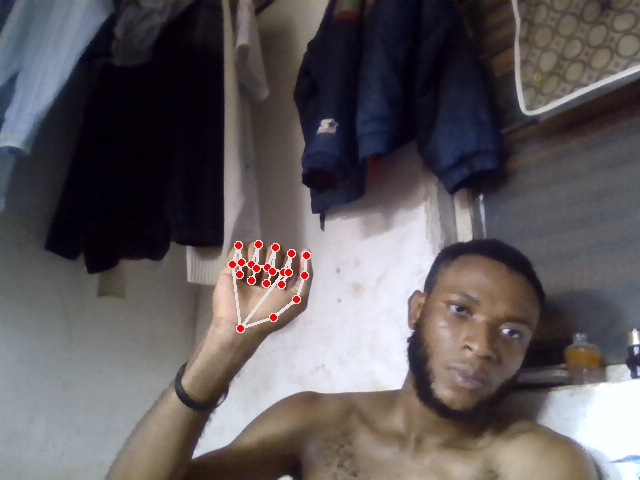number0: (211, 238, 314, 338)
